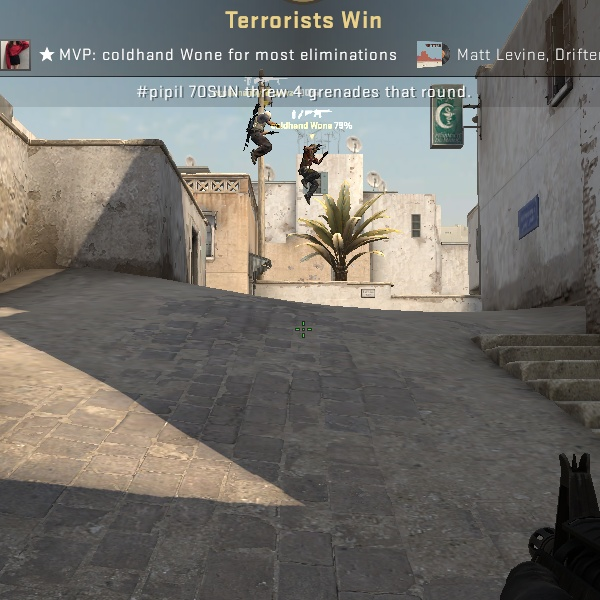t_body: (242, 106, 285, 170), (294, 140, 334, 208)
